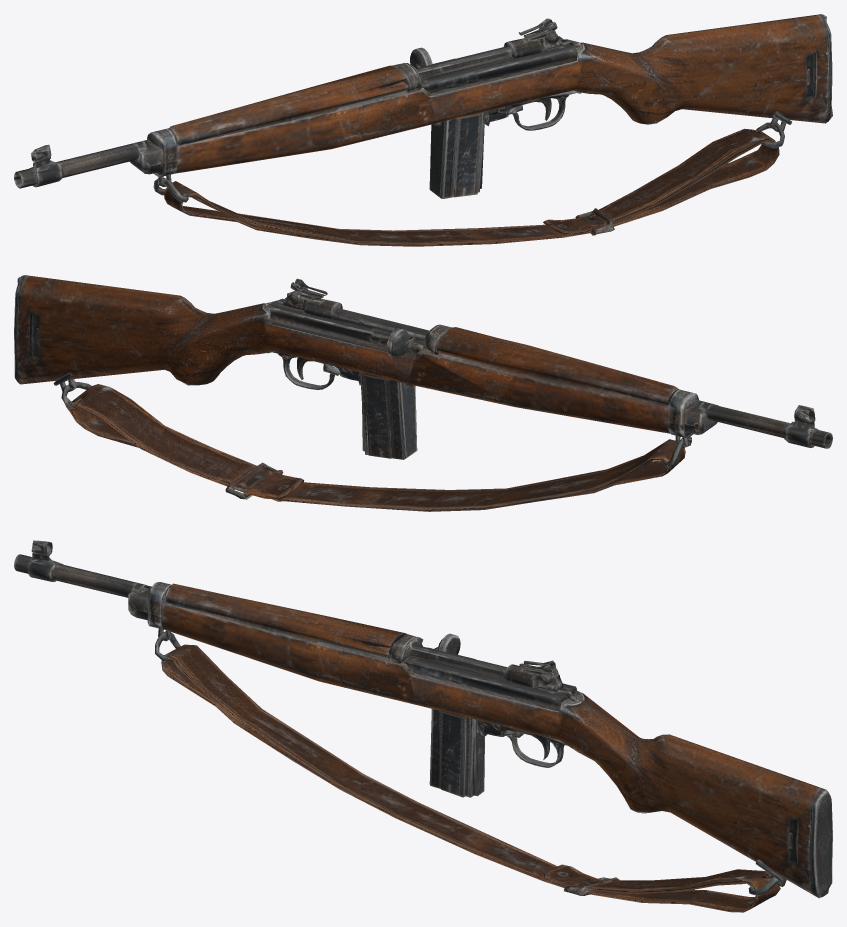
The model's file is Meshy_AI_model.fbx.
The picture shows the model from 3 angles, top to bottom: view 1: azimuth 30°, elevation 25°; view 2: azimuth 150°, elevation 25°; view 3: azimuth 330°, elevation 25°; orthographic projection.
Parts seen in each view (by area): view 1: Mesh_0; view 2: Mesh_0; view 3: Mesh_0.
Part boxes in pixels (left/top/right/bottom): Mesh_0: left=14, top=14, right=832, bottom=246; Mesh_0: left=14, top=275, right=832, bottom=511; Mesh_0: left=14, top=540, right=832, bottom=912.
Size of the model in its own units: 95.85 by 24.9 by 8.01.
Materials: 1 (1 with a texture image).
